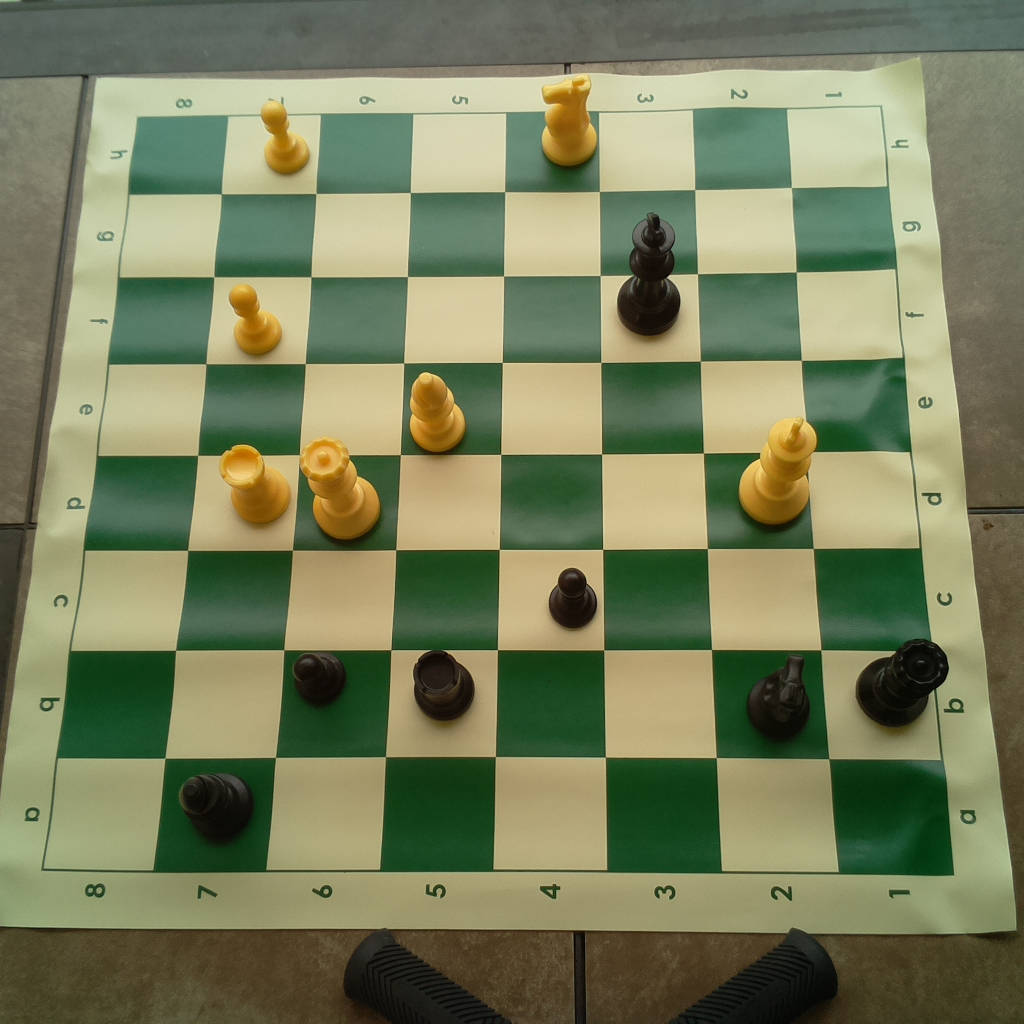black_bishop: (172, 764, 259, 843)
black_king: (614, 205, 685, 339)
black_knight: (742, 651, 818, 743)
black_pawn: (284, 648, 350, 712), (545, 562, 601, 630)
black_queen: (851, 632, 953, 735)
black_rook: (410, 645, 479, 723)
file_a: (45, 757, 955, 875)
file_b: (55, 652, 944, 757)
file_c: (68, 551, 938, 652)
file_d: (83, 452, 920, 548)
file_e: (97, 357, 911, 453)
file_f: (107, 269, 903, 361)
file_g: (119, 188, 896, 278)
file_h: (128, 102, 890, 193)
outline: (41, 106, 957, 879)
rank_1: (788, 104, 954, 877)
rank_2: (694, 106, 838, 873)
rank_3: (598, 108, 724, 873)
rank_4: (493, 113, 605, 871)
rank_5: (377, 113, 505, 873)
rank_6: (264, 115, 412, 874)
rank_7: (153, 114, 321, 873)
rank_8: (44, 115, 227, 873)
white_bishop: (403, 369, 470, 454)
white_king: (733, 410, 819, 532)
white_knight: (538, 71, 598, 166)
white_pawn: (253, 99, 312, 177), (225, 283, 286, 354)
white_queen: (298, 434, 386, 544)
white_rook: (215, 436, 293, 526)
